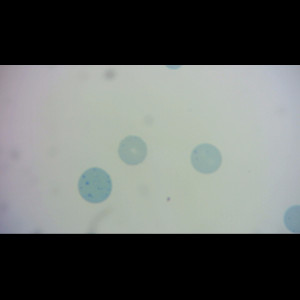erythrocyte: (117, 134, 149, 166)
punctate reticulocyte: (76, 166, 114, 205), (189, 142, 223, 175)
